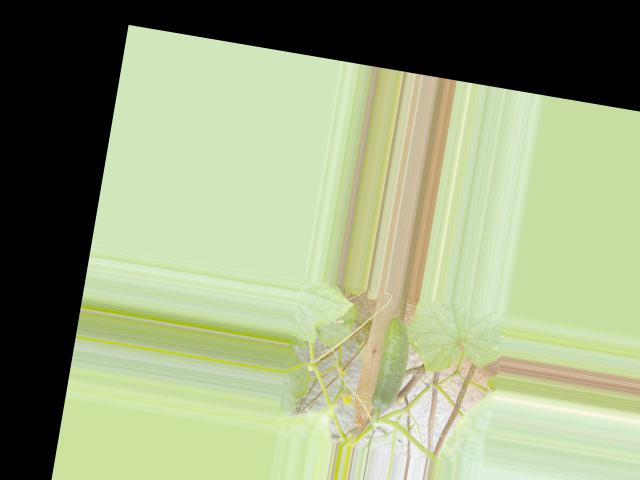cucumber: (369, 315, 414, 413)
